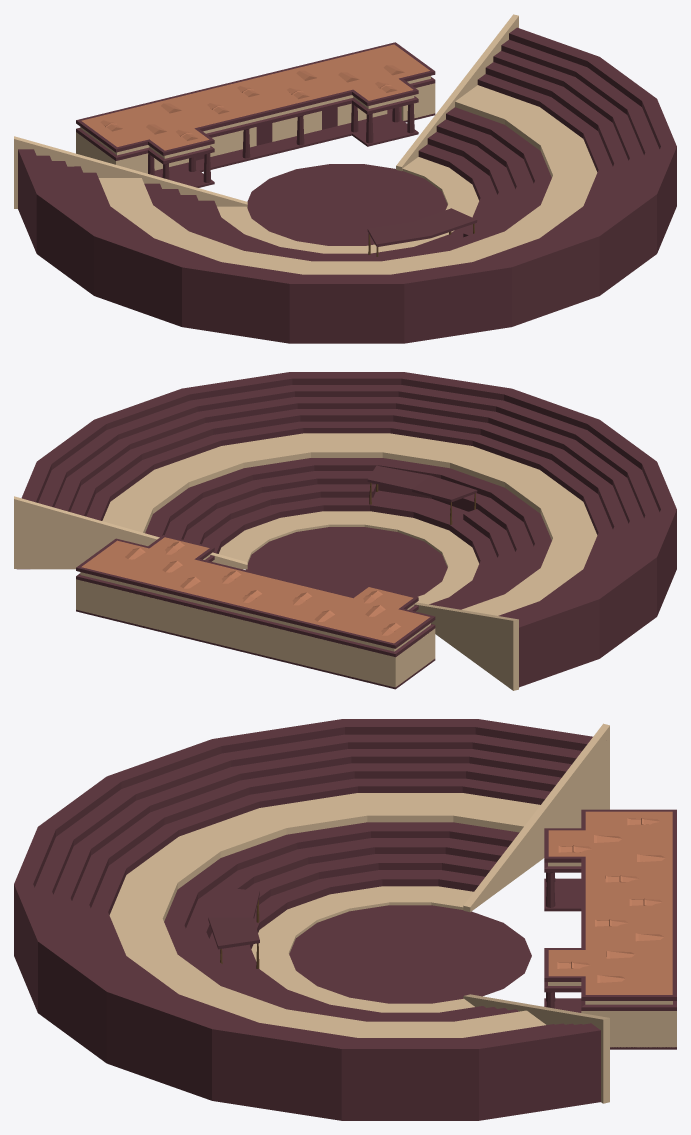
The model's file is SM_Theatre_Antique_Empire.fbx.
The picture shows the model from 3 angles, top to bottom: view 1: azimuth 30°, elevation 25°; view 2: azimuth 150°, elevation 25°; view 3: azimuth 270°, elevation 25°; orthographic projection. The views are drawn at different scales.
Visible parts, largest first — view 1: SM_Theatre_Antique_Empire; view 2: SM_Theatre_Antique_Empire; view 3: SM_Theatre_Antique_Empire.
Part boxes in pixels (box(x1,y1,x2,y2)): SM_Theatre_Antique_Empire: box(14, 14, 676, 343); SM_Theatre_Antique_Empire: box(14, 372, 676, 690); SM_Theatre_Antique_Empire: box(14, 719, 676, 1120).
Size of the model in its own units: 52.64 by 6.27 by 44.71.
